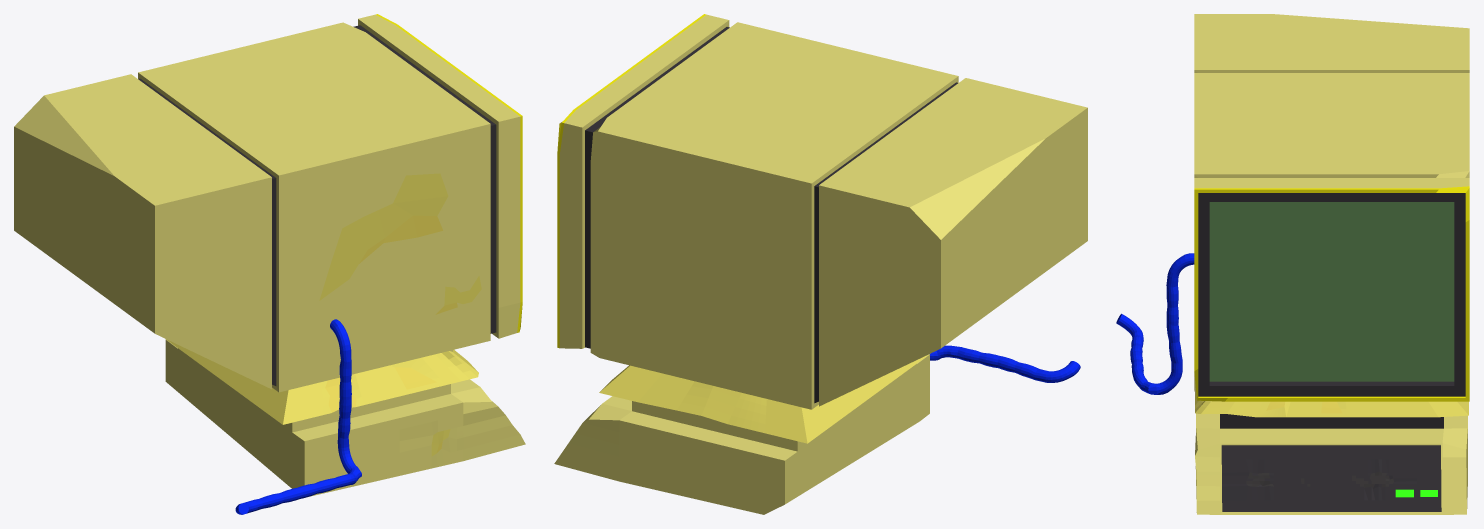
3 renders of one model, left to right at view 1: azimuth 30°, elevation 25°; view 2: azimuth 150°, elevation 25°; view 3: azimuth 270°, elevation 25°, orthographic. The views are drawn at different scales.
Visible parts, largest first — view 1: Cube, Torus.001; view 2: Cube, Torus.001; view 3: Cube, Torus.001.
Part boxes in pixels (<box>): Cube: <box>14,14,525,496</box>; Torus.001: <box>235,319,361,514</box>; Cube: <box>554,14,1087,514</box>; Torus.001: <box>929,345,1080,382</box>; Cube: <box>1194,14,1469,514</box>; Torus.001: <box>1116,253,1194,394</box>.
Size of the model in its own units: 305 by 261 by 257.
